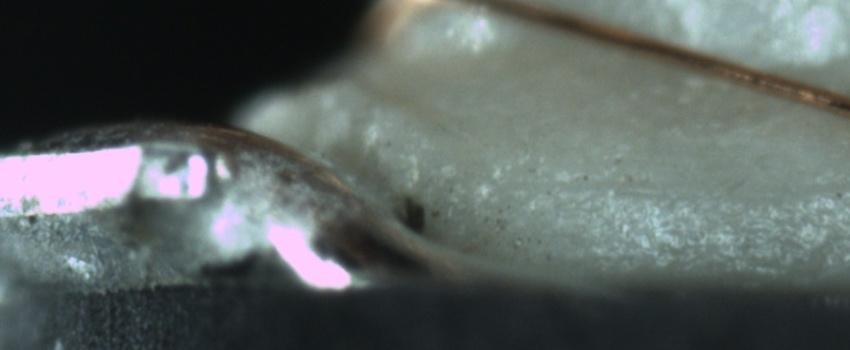DL: (530, 160, 850, 224)
